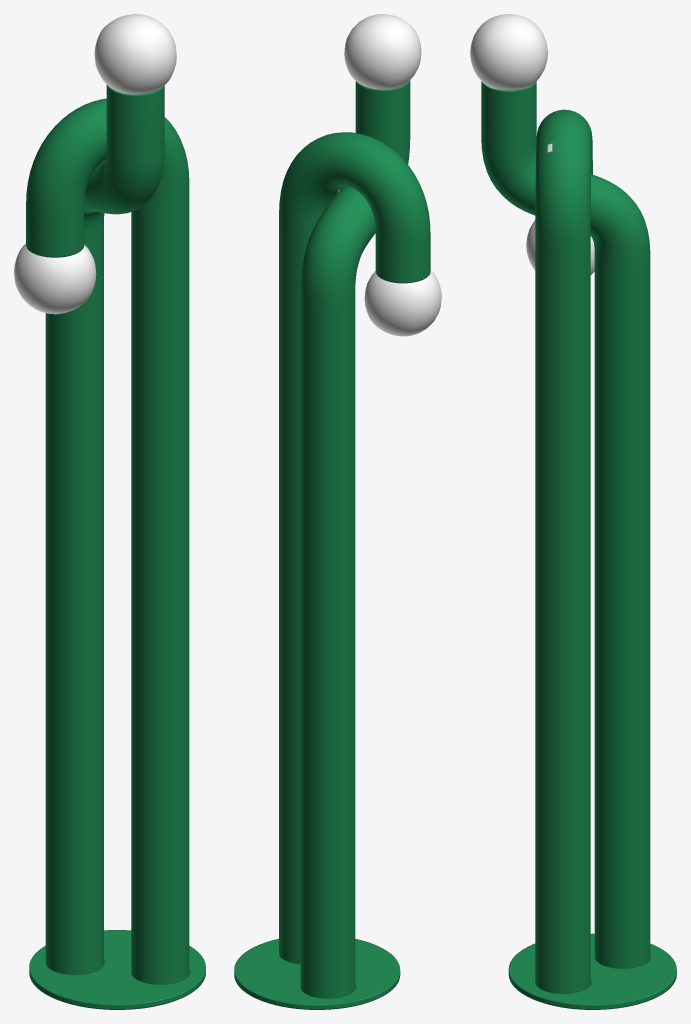
The model's file is floor_lamp.glb.
3 views of the same model, side by side, from view 1: azimuth 30°, elevation 25°; view 2: azimuth 150°, elevation 25°; view 3: azimuth 270°, elevation 25° (orthographic). The views are drawn at different scales.
Visible parts, largest first — view 1: Lighting_Floor-Lamps_Sculptural-Green_01; view 2: Lighting_Floor-Lamps_Sculptural-Green_01; view 3: Lighting_Floor-Lamps_Sculptural-Green_01.
Boxes of the visible parts, x1=… form: Lighting_Floor-Lamps_Sculptural-Green_01: x1=14, y1=14, x2=205, y2=1009; Lighting_Floor-Lamps_Sculptural-Green_01: x1=234, y1=14, x2=441, y2=1009; Lighting_Floor-Lamps_Sculptural-Green_01: x1=470, y1=14, x2=676, y2=1009.
Bounding box in the file's own units: 0.3702 × 1.86 × 0.3688.
